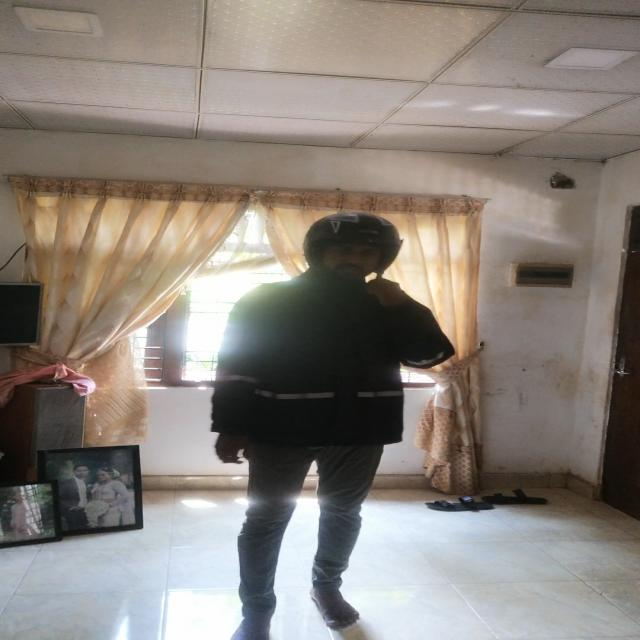Helmet_Wearer: (295, 205, 401, 291)
Jacket_Wearer: (221, 277, 459, 470)
Person: (225, 206, 450, 640)
